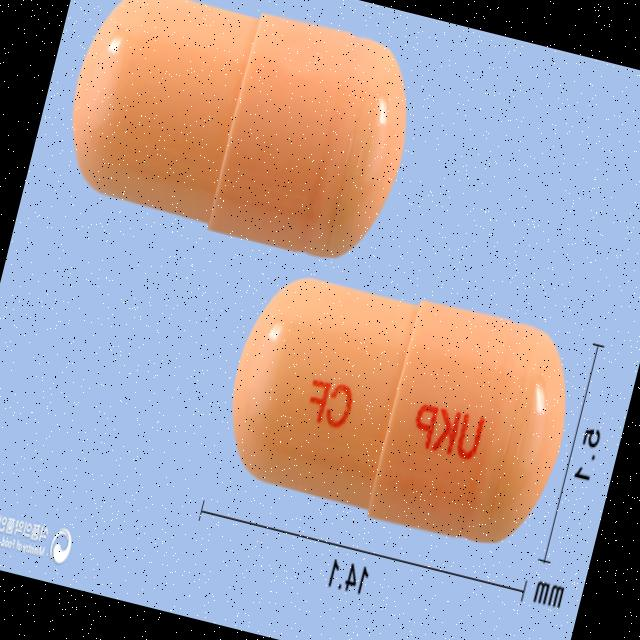Unifixime Cap: (209, 254, 589, 558), (48, 0, 425, 270)
